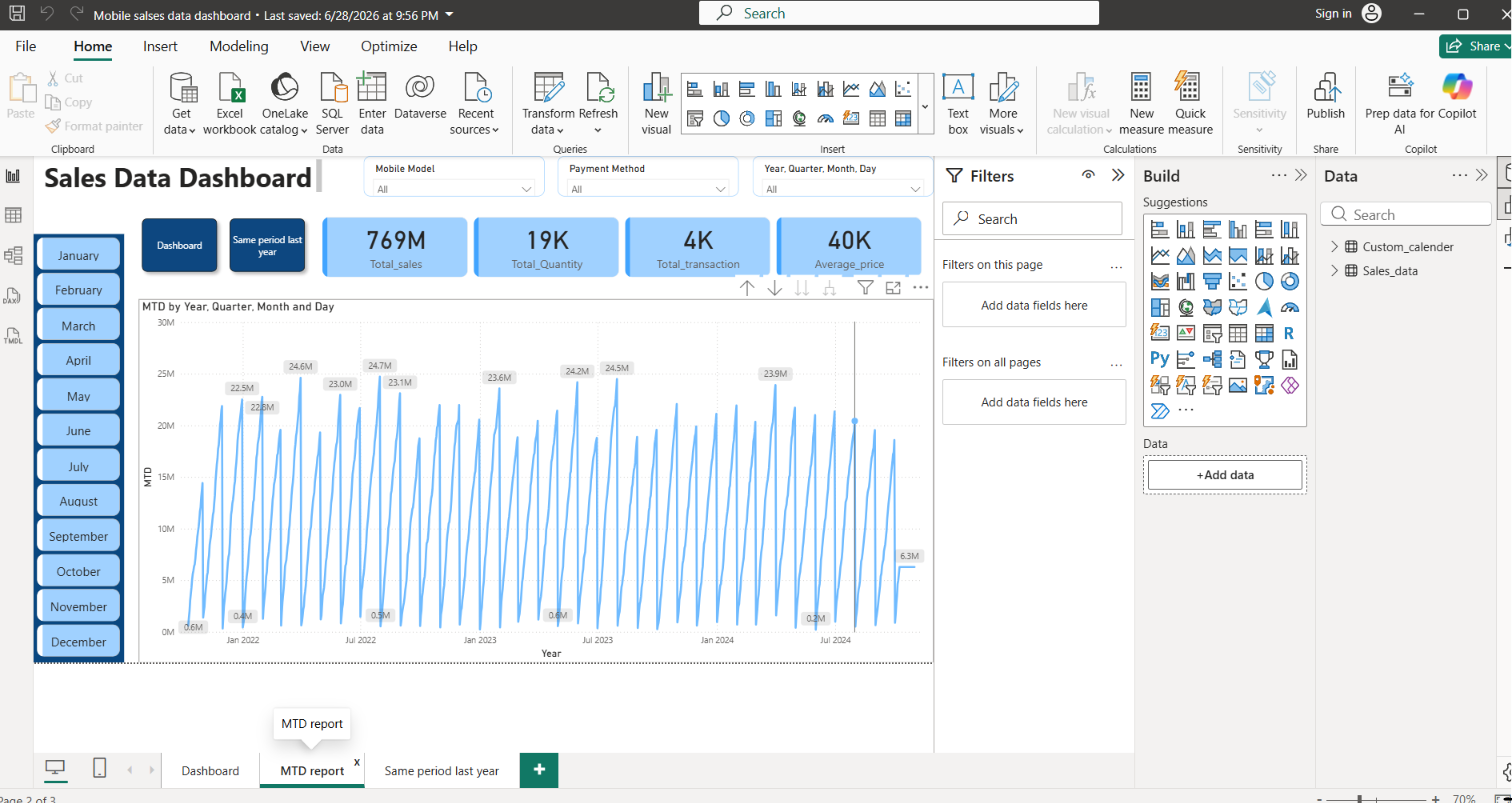

The dashboard page shown, as its layout file describes it:
{"tool":"powerbi","page":{"name":"MTD report","canvas":[1280,720],"ordinal":1},"visuals":[{"type":"textbox","box":[9.6,0,404.8,57.6],"z":0},{"type":"cardVisual","fields":{"Data":["Sales_data.Total_sales","Sales_data.Total_Quantity","Sales_data.Total_transaction","Sales_data.Average_price"]},"box":[393.8,70,886.5,120.8],"z":1000},{"type":"slicer","fields":{"Values":["Sales_data.Mobile Model"]},"box":[469.3,0,258,57.6],"z":2000},{"type":"slicer","fields":{"Values":["Custom_calender.Date.Variation.Date Hierarchy.Year","Custom_calender.Date.Variation.Date Hierarchy.Quarter","Custom_calender.Date.Variation.Date Hierarchy.Month","Custom_calender.Date.Variation.Date Hierarchy.Day"]},"box":[1022.3,0,258,57.6],"z":3000},{"type":"slicer","fields":{"Values":["Sales_data.Payment Method"]},"box":[745.1,0,258,57.6],"z":4000},{"type":"lineChart","fields":{"Y":["Custom_calender.MTD"],"Category":["Custom_calender.Date.Variation.Date Hierarchy.Year","Custom_calender.Date.Variation.Date Hierarchy.Quarter","Custom_calender.Date.Variation.Date Hierarchy.Month","Custom_calender.Date.Variation.Date Hierarchy.Day"]},"box":[149.6,203.1,1130.7,517.3],"z":5000},{"type":"advancedSlicerVisual","fields":{"Values":["Custom_calender.Date.Variation.Date Hierarchy.Month"]},"box":[0,110.7,129,609.3],"z":6000},{"type":"pageNavigator","box":[145.5,79.6,248.4,94.7],"z":7000}]}

Visuals, with their boxes on the page's 1280x720 design canvas (x1, y1, x2, y2). These are canvas units, not pixel positions in the 1512x803 screenshot, which may show the page scaled, cropped or inside an application window:
textbox: <box>10,0,414,58</box>
cardVisual - Sales_data.Total_sales x Sales_data.Total_Quantity: <box>394,70,1280,191</box>
slicer - Sales_data.Mobile Model: <box>469,0,727,58</box>
slicer - Custom_calender.Date.Variation.Date Hierarchy.Year x Custom_calender.Date.Variation.Date Hierarchy.Quarter: <box>1022,0,1280,58</box>
slicer - Sales_data.Payment Method: <box>745,0,1003,58</box>
lineChart - Custom_calender.MTD x Custom_calender.Date.Variation.Date Hierarchy.Year: <box>150,203,1280,720</box>
advancedSlicerVisual - Custom_calender.Date.Variation.Date Hierarchy.Month: <box>0,111,129,720</box>
pageNavigator: <box>146,80,394,174</box>
